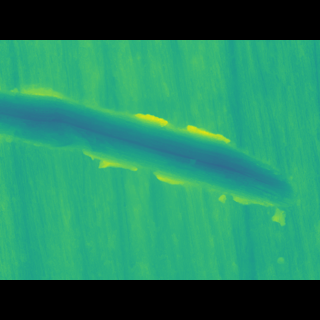Loch: (0, 101, 304, 203)
